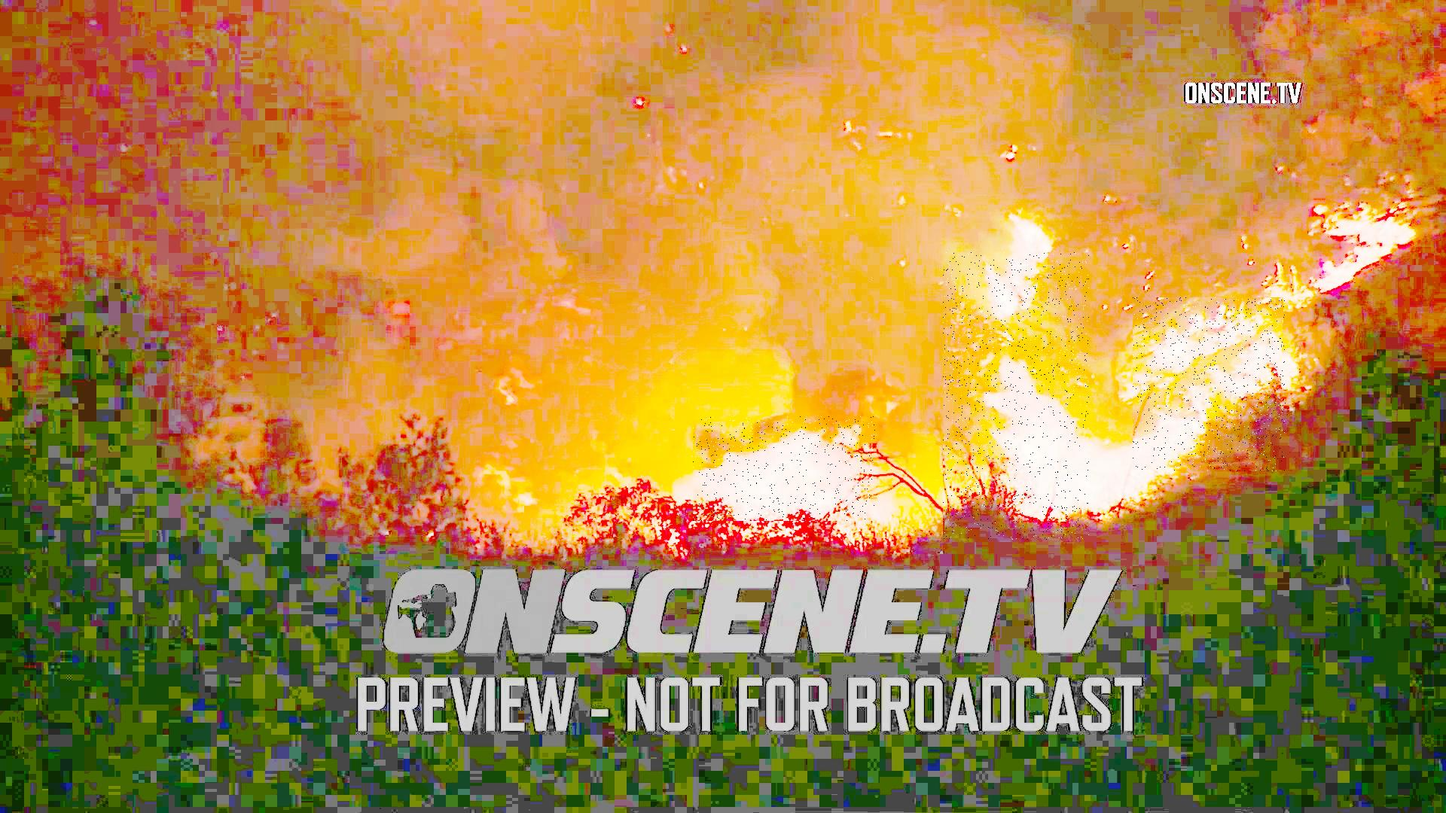fire: (944, 253, 1090, 540), (1133, 298, 1286, 472), (693, 416, 876, 521)
